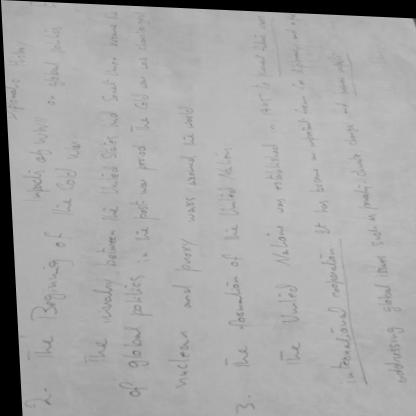Handwritten text: (261, 6, 369, 393), (236, 8, 309, 373), (72, 7, 142, 373), (111, 8, 158, 403), (15, 134, 90, 366), (200, 134, 263, 376), (156, 90, 203, 397), (6, 16, 73, 210)
